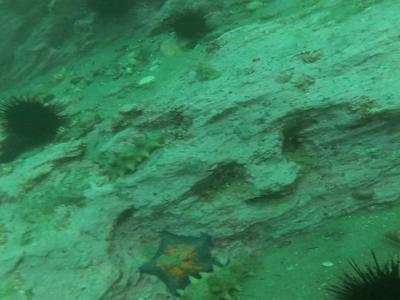holothurian: (170, 252, 266, 298), (100, 129, 164, 182)
urchin: (2, 90, 71, 147), (320, 247, 395, 295), (169, 6, 211, 42)
